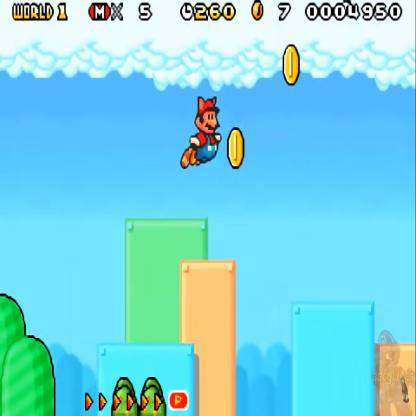Mario: (181, 92, 223, 168)
moneda: (226, 124, 245, 174), (282, 45, 302, 87)
